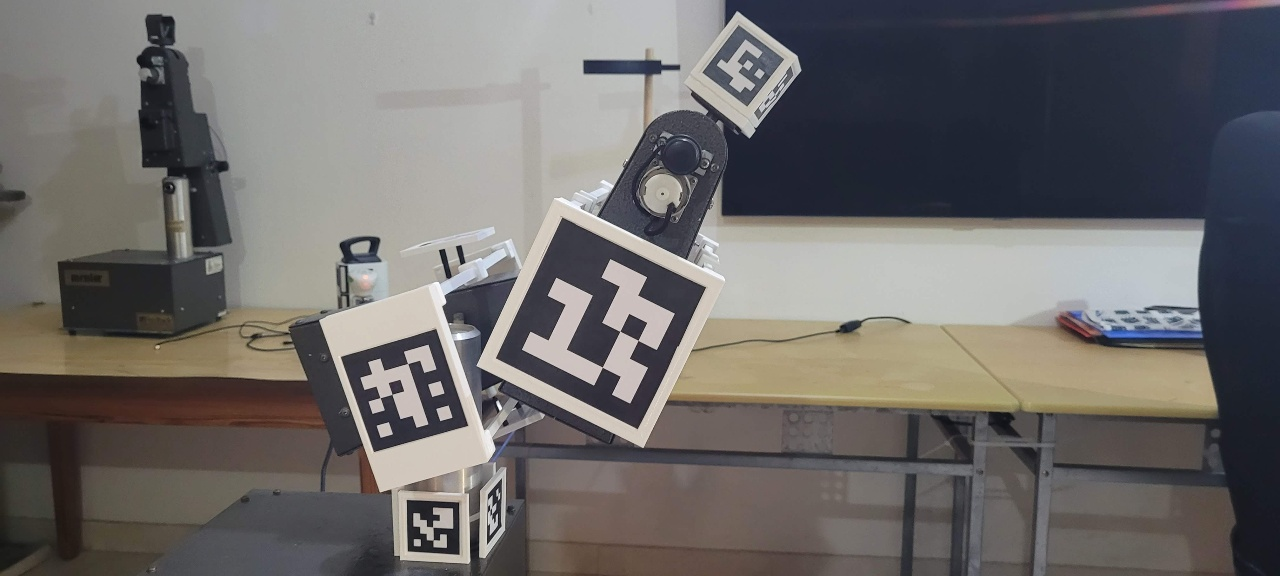Robot: (303, 15, 862, 576)
